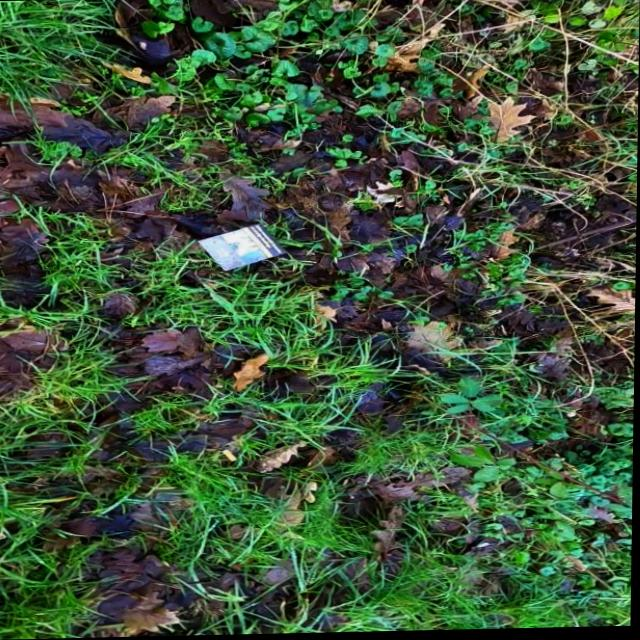Paper: (197, 223, 292, 273)
